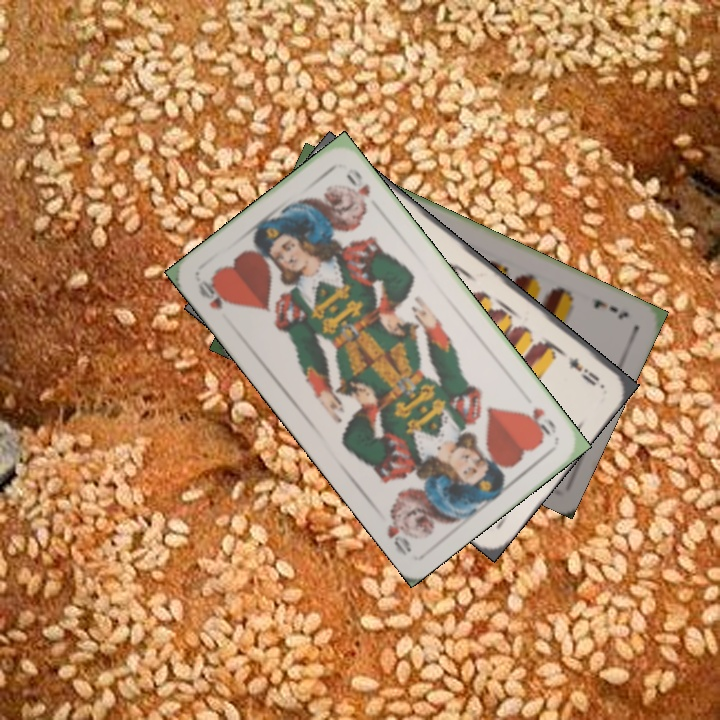E7: (589, 295, 631, 322)
E9: (564, 352, 603, 389)
HO: (193, 274, 234, 312), (519, 403, 559, 440)
